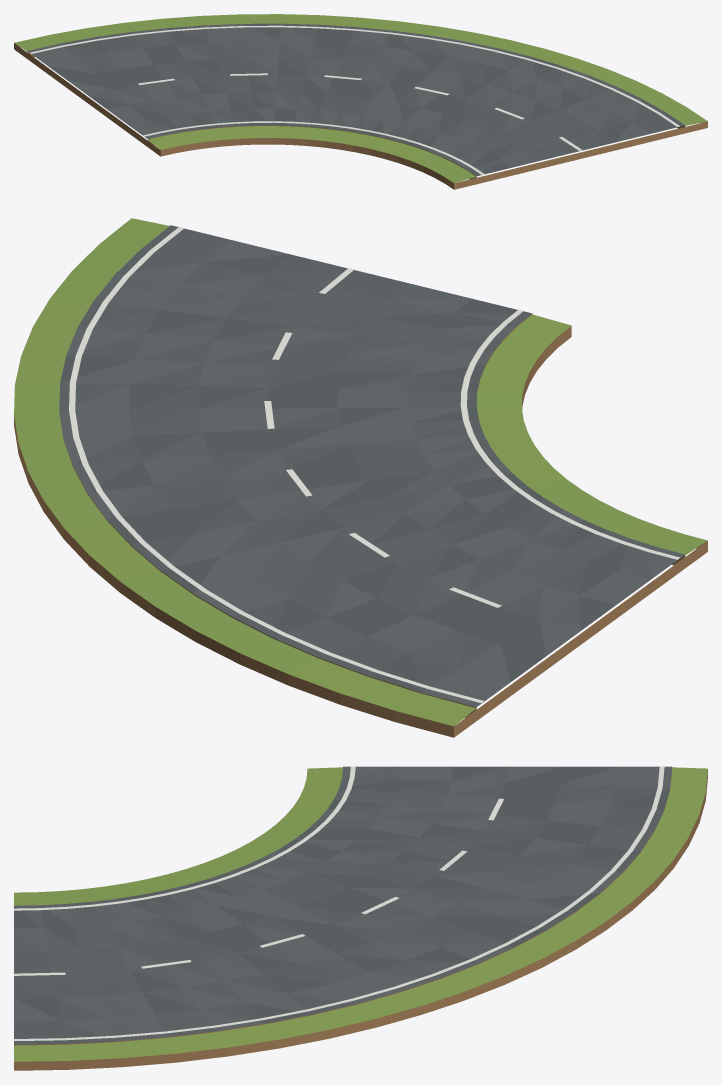
Rendered from asphalt_curve.glb.
3 renders of one model, top to bottom at view 1: azimuth 30°, elevation 25°; view 2: azimuth 150°, elevation 25°; view 3: azimuth 270°, elevation 25°, orthographic. The views are drawn at different scales.
Visible parts, largest first — view 1: Body.005; view 2: Body.005; view 3: Body.005.
Boxes of the visible parts, bbox=[...] form: Body.005: bbox=[14, 14, 707, 189]; Body.005: bbox=[14, 218, 707, 737]; Body.005: bbox=[14, 766, 707, 1070].
Bounding box in the file's own units: 12.65 × 0.229 × 12.65.
